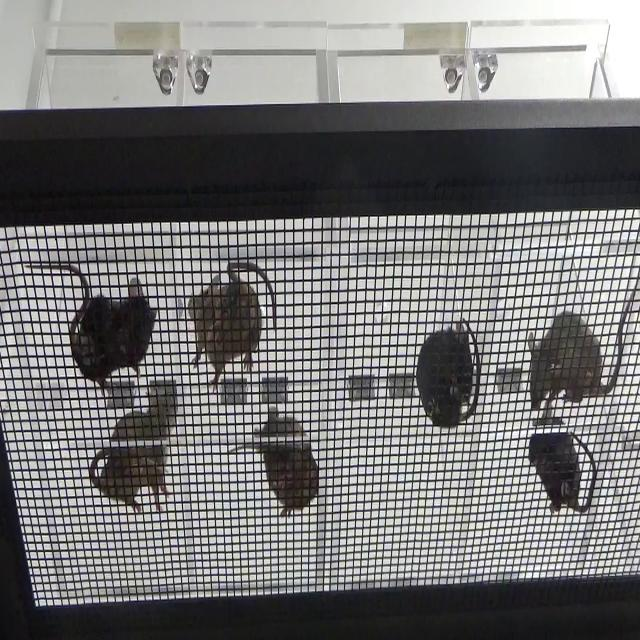scratch: (20, 258, 167, 399)
